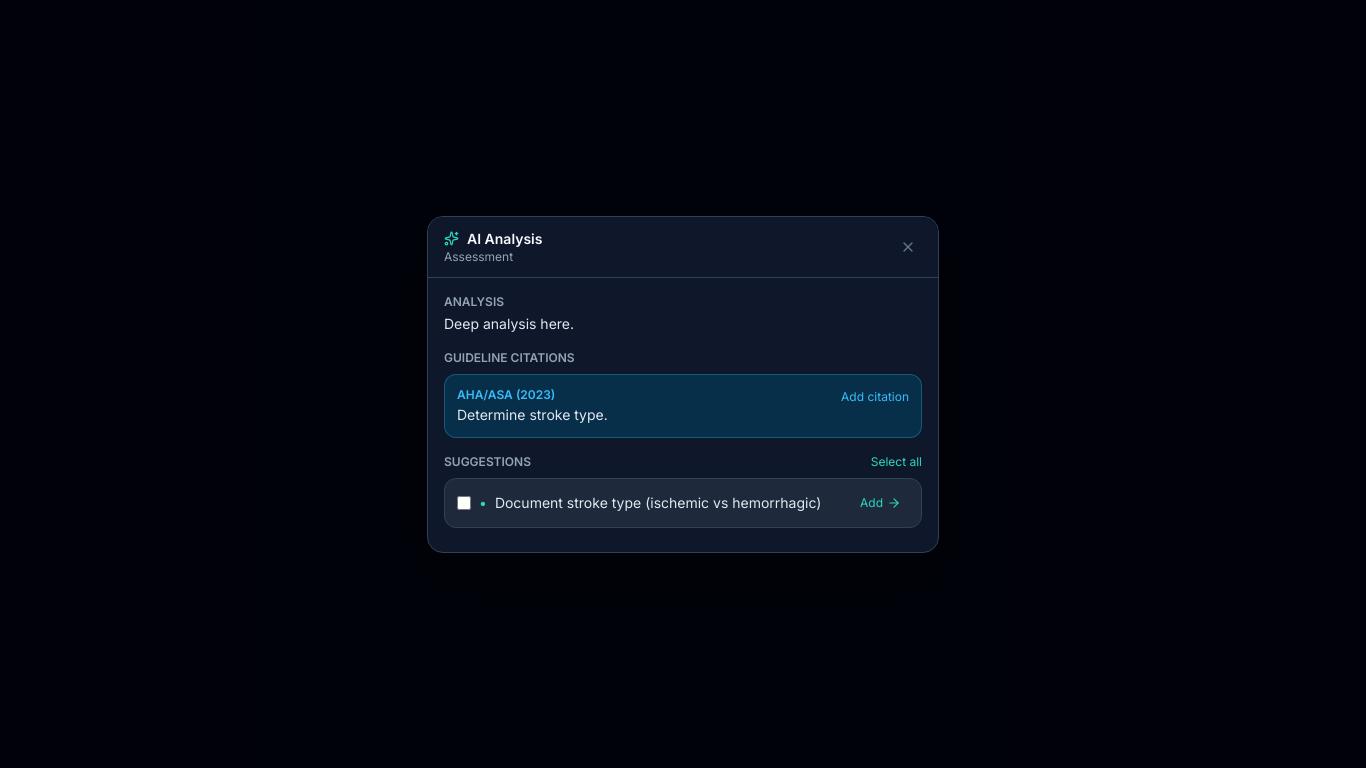
Test: FocusedAIPanel › shows loading overlay when Add to note is clicked
The width and height of the screenshot is (1366, 768).
Step 1. Click the button with aria-label "add to note" → (880, 502), box [852,490,909,514]
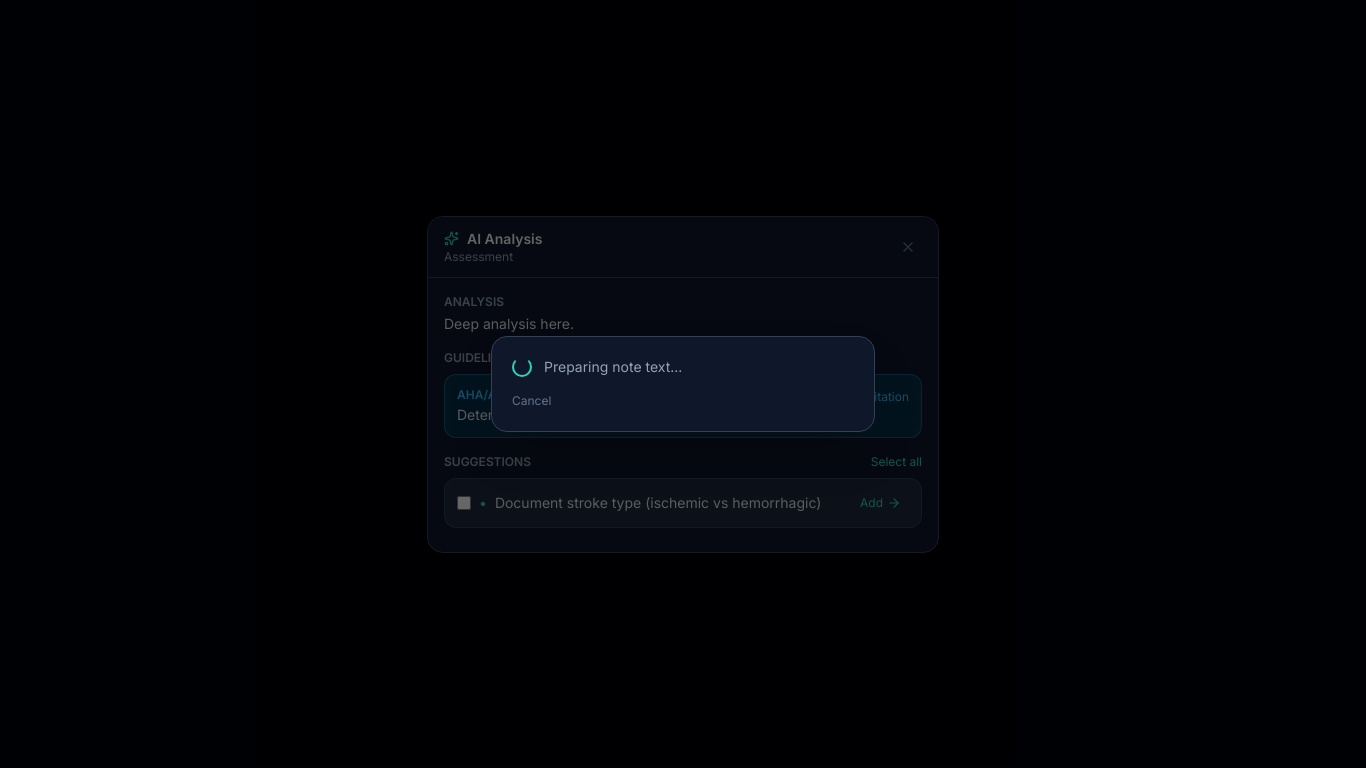
expect the text "Preparing note text..." is shown: met, box [544,357,682,377]
